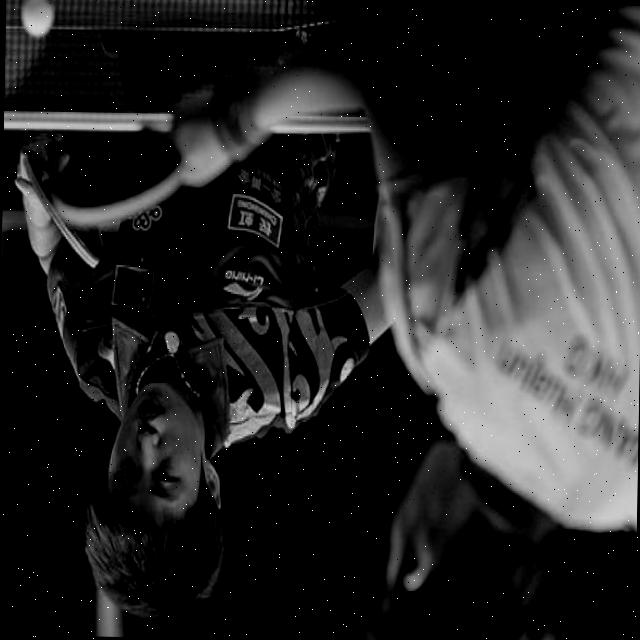ping-pong-ball: (18, 0, 55, 40)
